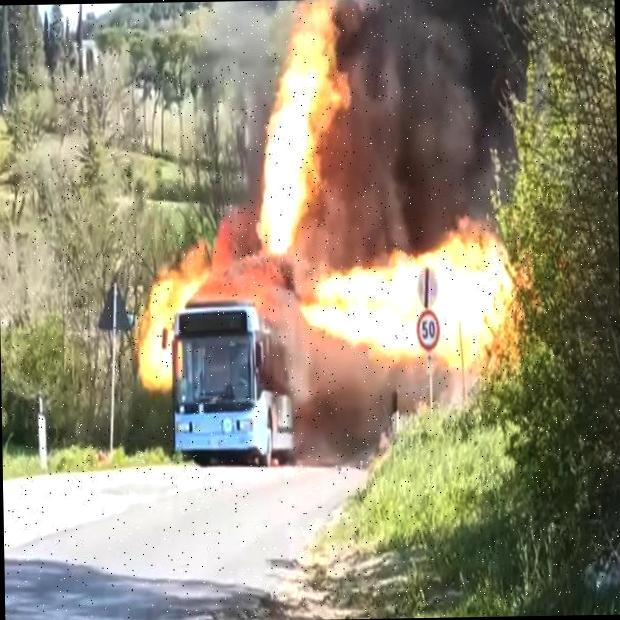smoke: (350, 0, 559, 240), (293, 372, 387, 464)
